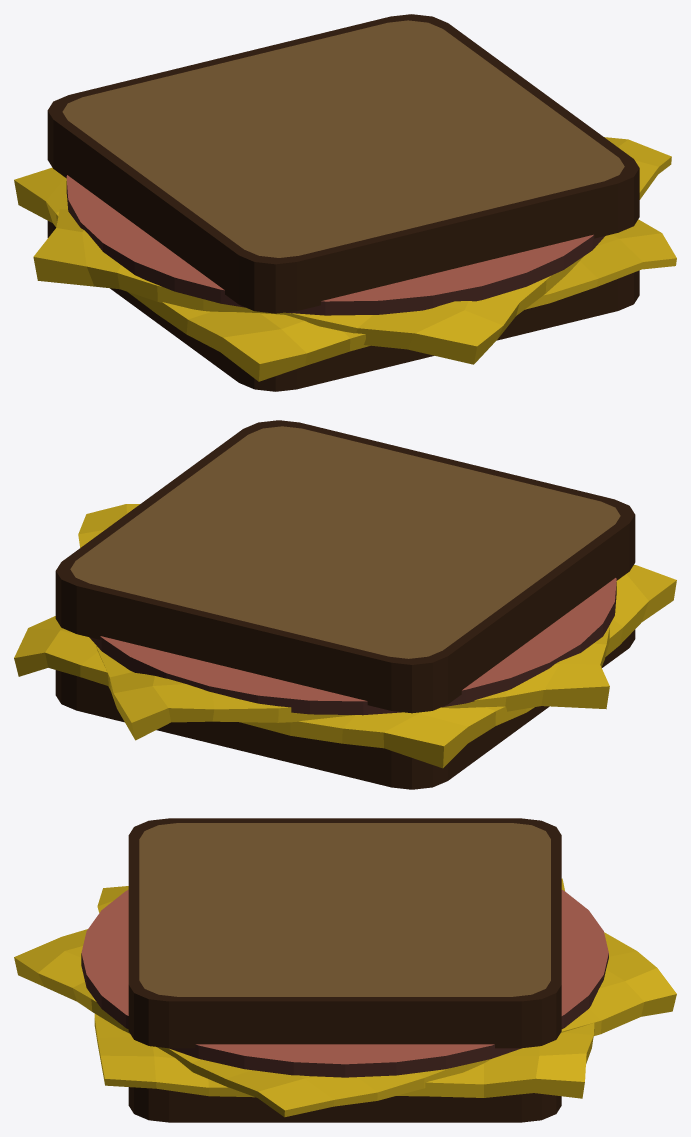
File: hamAndCheese.fbx
3 renders of one model, top to bottom at view 1: azimuth 30°, elevation 25°; view 2: azimuth 150°, elevation 25°; view 3: azimuth 270°, elevation 25°, orthographic. The views are drawn at different scales.
Visible parts, largest first — view 1: Ham and Cheese; view 2: Ham and Cheese; view 3: Ham and Cheese.
Part boxes in pixels (left/top/right/bottom): Ham and Cheese: left=14, top=14, right=676, bottom=391; Ham and Cheese: left=14, top=420, right=676, bottom=789; Ham and Cheese: left=14, top=818, right=676, bottom=1122.
Bounding box in the file's own units: 30.61 × 29.71 × 6.17.
